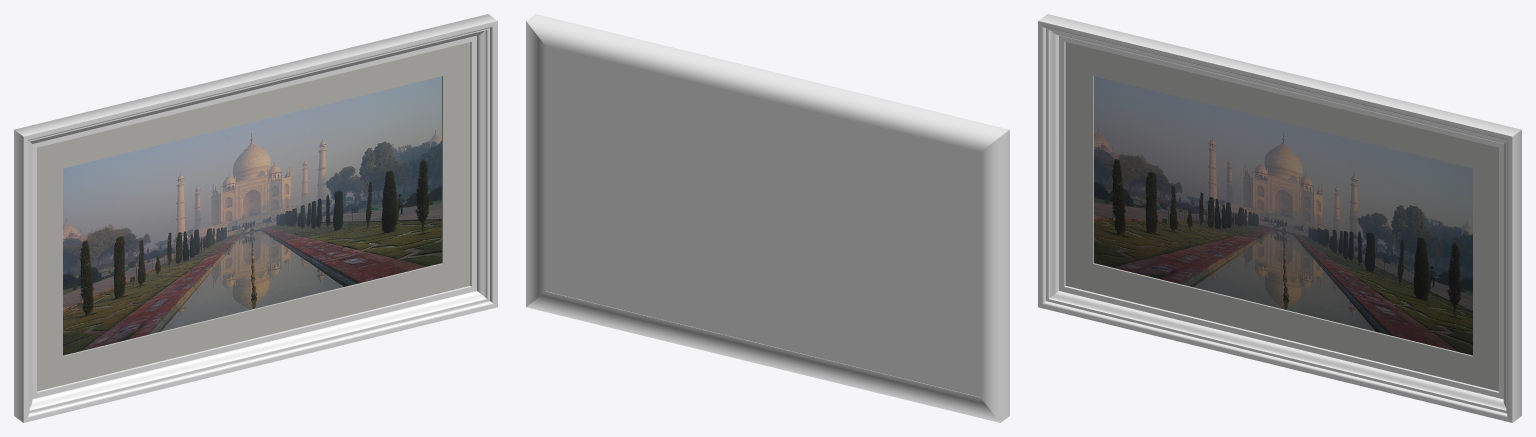
Rendered from Picture 2.FBX.
3 renders of one model, left to right at view 1: azimuth 30°, elevation 25°; view 2: azimuth 150°, elevation 25°; view 3: azimuth 330°, elevation 25°, orthographic.
Parts seen in each view (by area): view 1: Picture 2; view 2: Picture 2; view 3: Picture 2.
Boxes of the visible parts, x1,y1,x2,y2 form: Picture 2: (14, 14, 497, 422); Picture 2: (526, 14, 1009, 422); Picture 2: (1038, 14, 1521, 422).
Bounding box in the file's own units: 34.12 × 19.69 × 1.18.
Materials: 1 (1 with a texture image).
